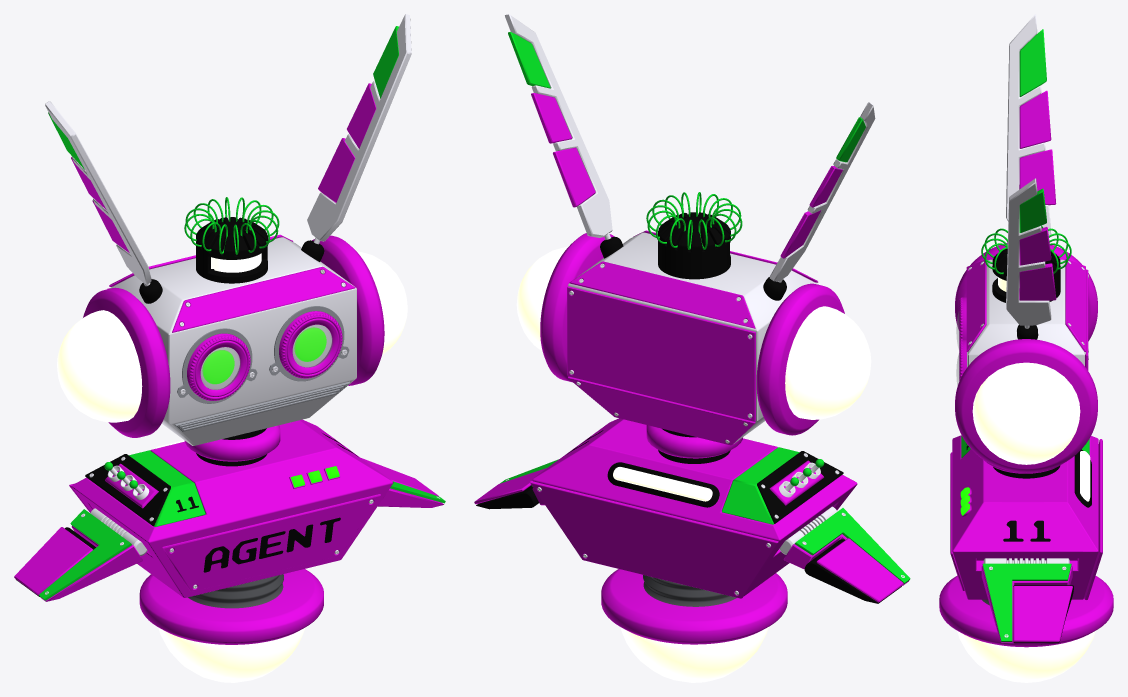
File: bee_bot8_purple.glb
3 views of the same model, side by side, from view 1: azimuth 30°, elevation 25°; view 2: azimuth 150°, elevation 25°; view 3: azimuth 270°, elevation 25° (orthographic). The views are drawn at different scales.
Visible parts, largest first — view 1: Cube.034; view 2: Cube.034; view 3: Cube.034.
Part boxes in pixels (x1,y1,x2,y2): Cube.034: [14, 14, 445, 682]; Cube.034: [474, 14, 910, 682]; Cube.034: [939, 14, 1113, 682].
Size of the model in its own units: 0.6985 by 1.02 by 0.278.
